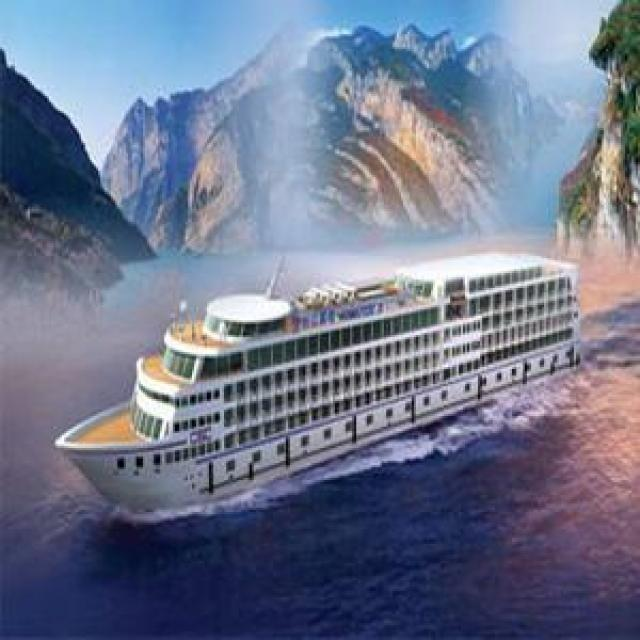passenger ship: (58, 247, 590, 522)
